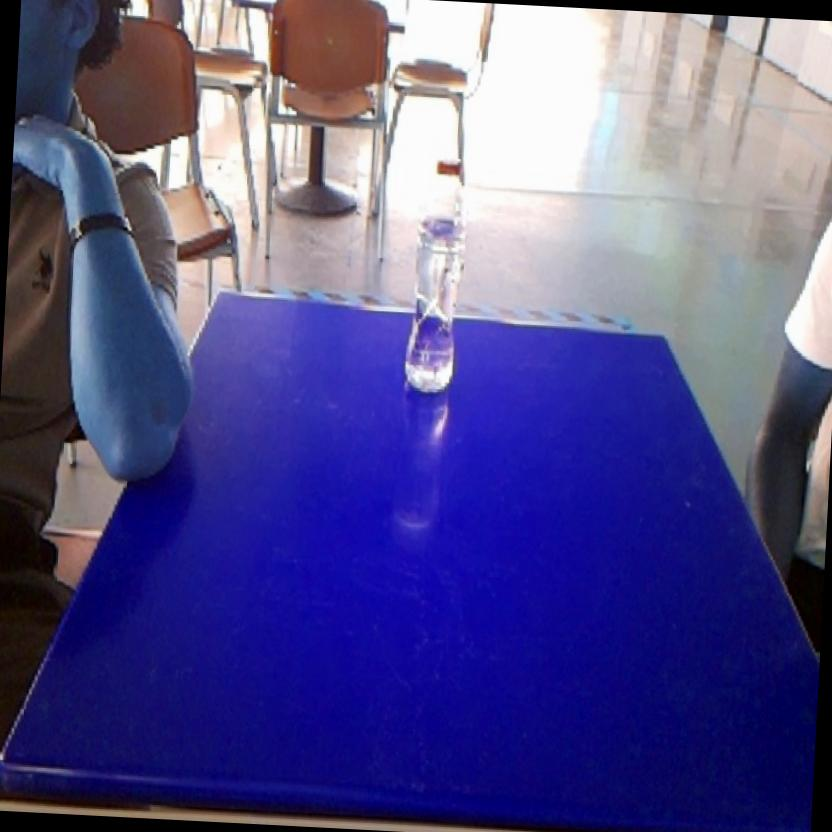no_label: (395, 147, 478, 404)
